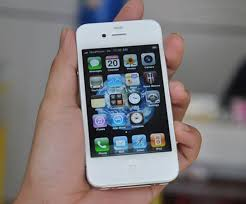iphone4: (71, 15, 182, 189)
